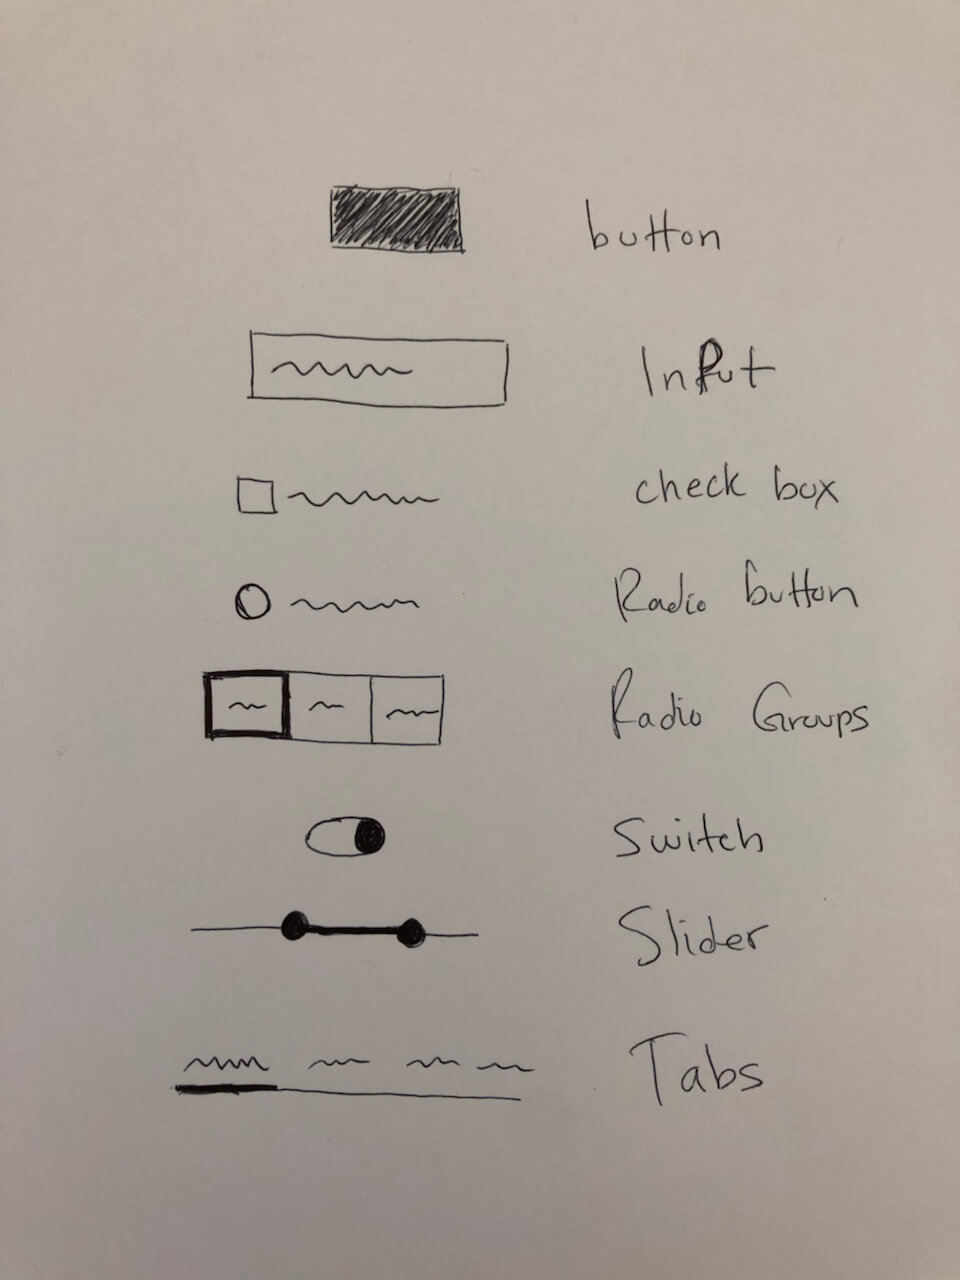button: (323, 174, 471, 264)
checkbox: (231, 471, 448, 522)
input: (240, 319, 514, 417)
radio-button: (230, 573, 425, 636)
radio-group: (198, 659, 454, 755)
slider: (183, 905, 486, 962)
switch: (301, 810, 393, 862)
tabs: (166, 1039, 542, 1114)
